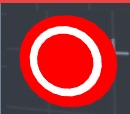Target: (19, 14, 118, 108)
